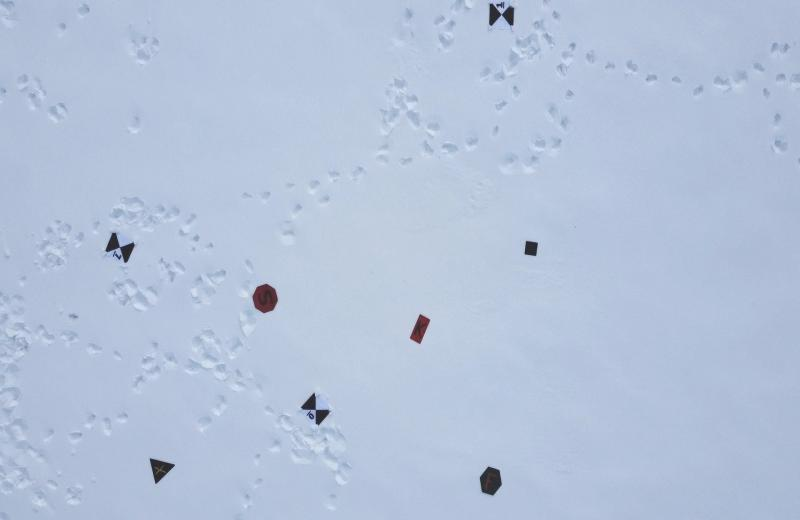Hexagon: (476, 462, 504, 498)
Octagon: (248, 281, 282, 317)
Rectangle: (407, 310, 432, 348)
Square: (518, 236, 542, 262)
Triangle: (148, 454, 182, 490)
